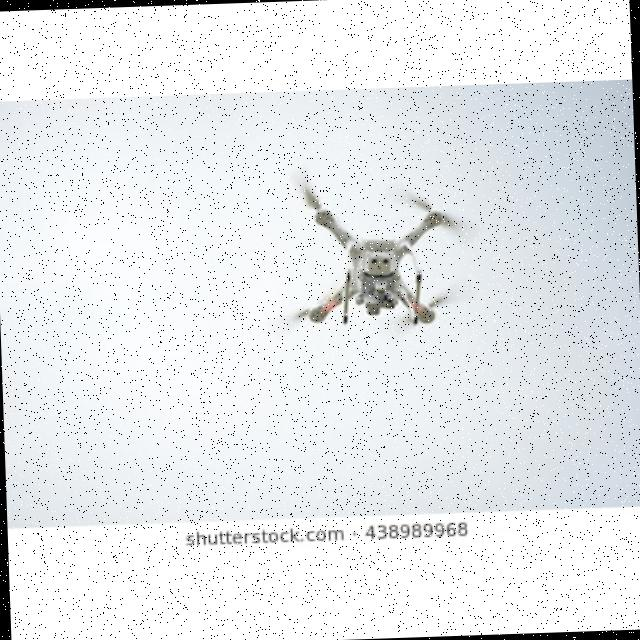Drones: (286, 173, 474, 341)
